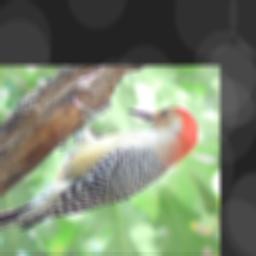Woodpecker: (0, 96, 202, 235)
